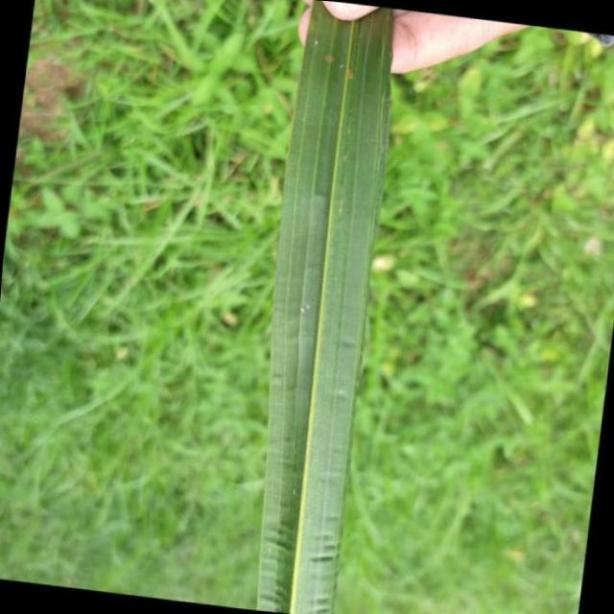Boron: (253, 0, 395, 614)
